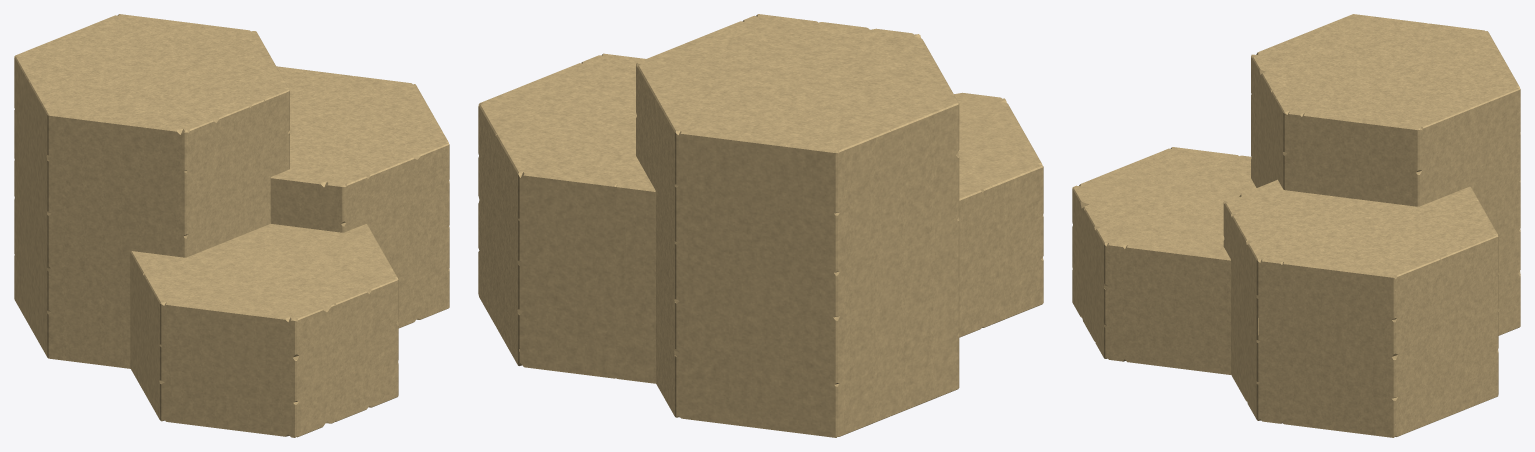
The model's file is OrirockConcentration_Finished.fbx.
3 renders of one model, left to right at view 1: azimuth 30°, elevation 25°; view 2: azimuth 150°, elevation 25°; view 3: azimuth 270°, elevation 25°, orthographic. The views are drawn at different scales.
Parts seen in each view (by area): view 1: 提纯源岩_左后_宽顶短壁, 提纯源岩_前方_宽扁断块, 提纯源岩_右后_斜切与下阶; view 2: 提纯源岩_左后_宽顶短壁, 提纯源岩_右后_斜切与下阶, 提纯源岩_前方_宽扁断块; view 3: 提纯源岩_右后_斜切与下阶, 提纯源岩_左后_宽顶短壁, 提纯源岩_前方_宽扁断块.
Boxes of the visible parts, bbox=[...] form: 提纯源岩_左后_宽顶短壁: bbox=[14, 14, 289, 368]; 提纯源岩_前方_宽扁断块: bbox=[130, 224, 398, 437]; 提纯源岩_右后_斜切与下阶: bbox=[186, 66, 449, 328]; 提纯源岩_左后_宽顶短壁: bbox=[636, 14, 959, 437]; 提纯源岩_右后_斜切与下阶: bbox=[478, 53, 655, 383]; 提纯源岩_前方_宽扁断块: bbox=[954, 92, 1043, 337]; 提纯源岩_右后_斜切与下阶: bbox=[1223, 179, 1498, 437]; 提纯源岩_左后_宽顶短壁: bbox=[1251, 14, 1520, 335]; 提纯源岩_前方_宽扁断块: bbox=[1072, 147, 1258, 374].
Bounding box in the file's own units: 162 × 97.18 × 165.
